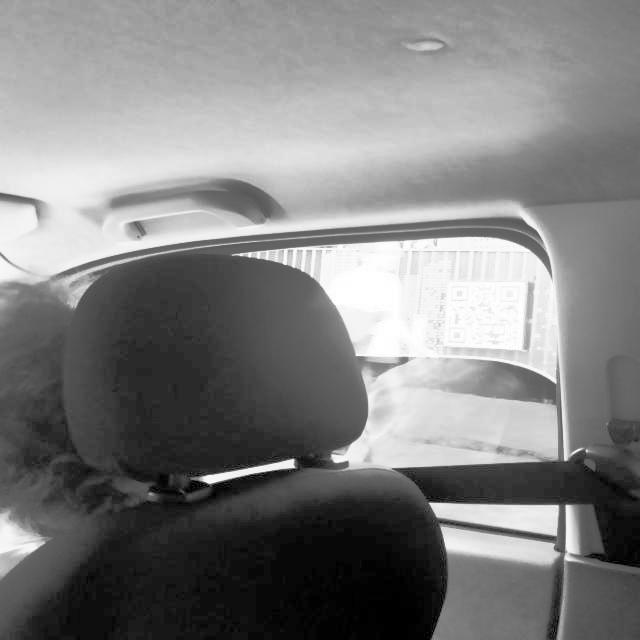qr_code: (449, 286, 521, 347)
